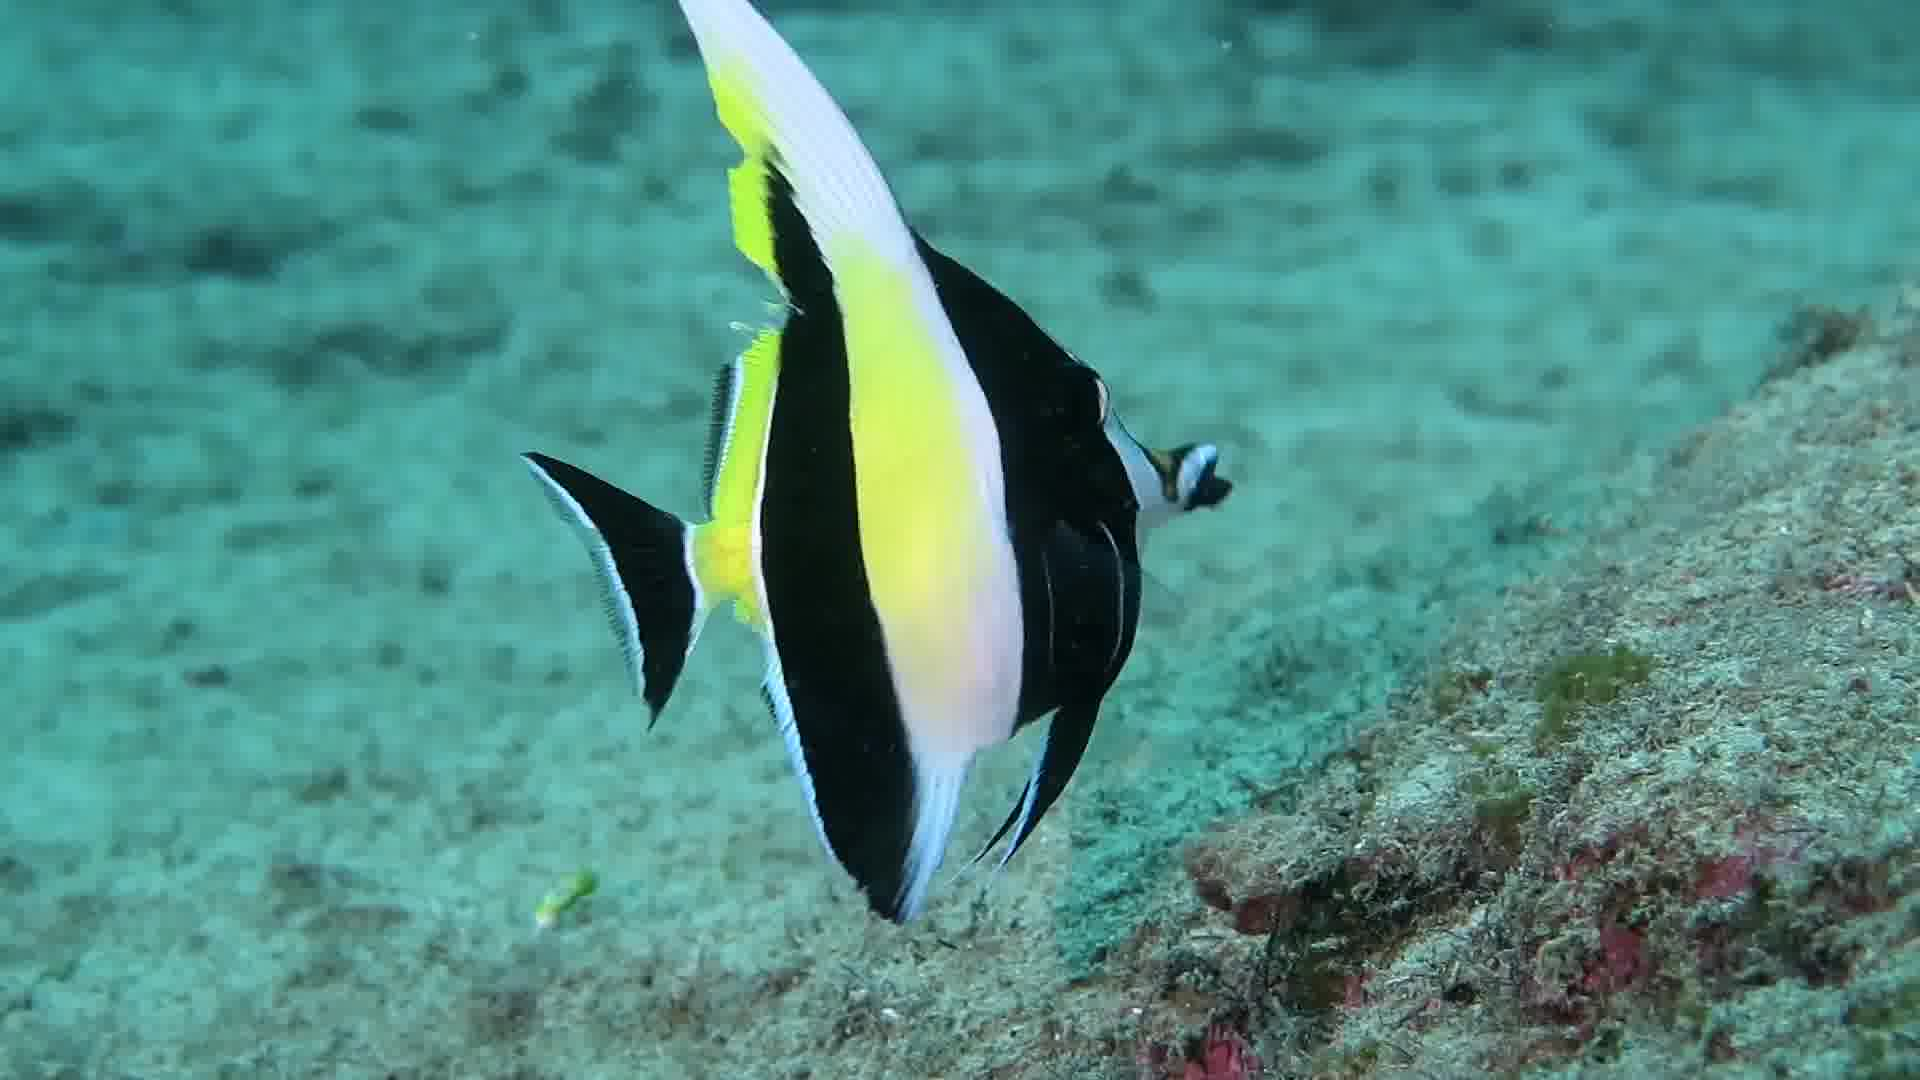Zanclus cornutus: (560, 153, 1254, 915)
